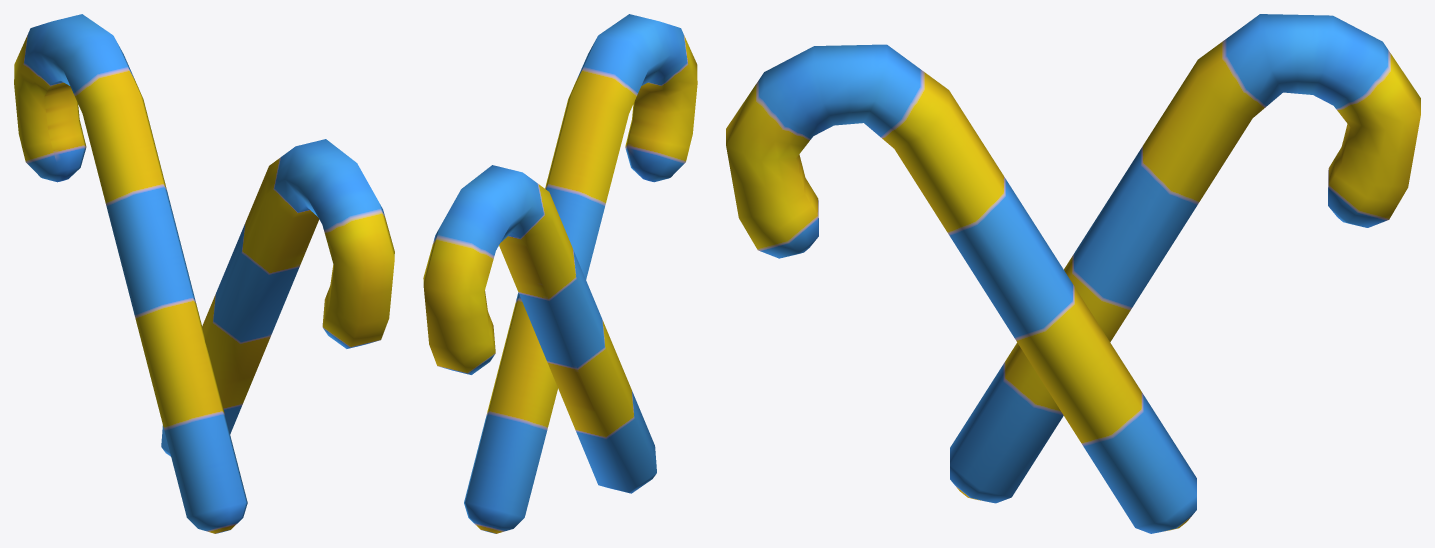
File: egypt_cane.fbx
3 renders of one model, left to right at view 1: azimuth 30°, elevation 25°; view 2: azimuth 150°, elevation 25°; view 3: azimuth 270°, elevation 25°, orthographic. The views are drawn at different scales.
Visible parts, largest first — view 1: egypt_cane; view 2: egypt_cane; view 3: egypt_cane.
Boxes of the visible parts, x1=… form: egypt_cane: x1=14, y1=14, x2=394, y2=533; egypt_cane: x1=423, y1=14, x2=697, y2=533; egypt_cane: x1=726, y1=14, x2=1420, y2=533.
Size of the model in its own units: 117 by 397 by 526.
